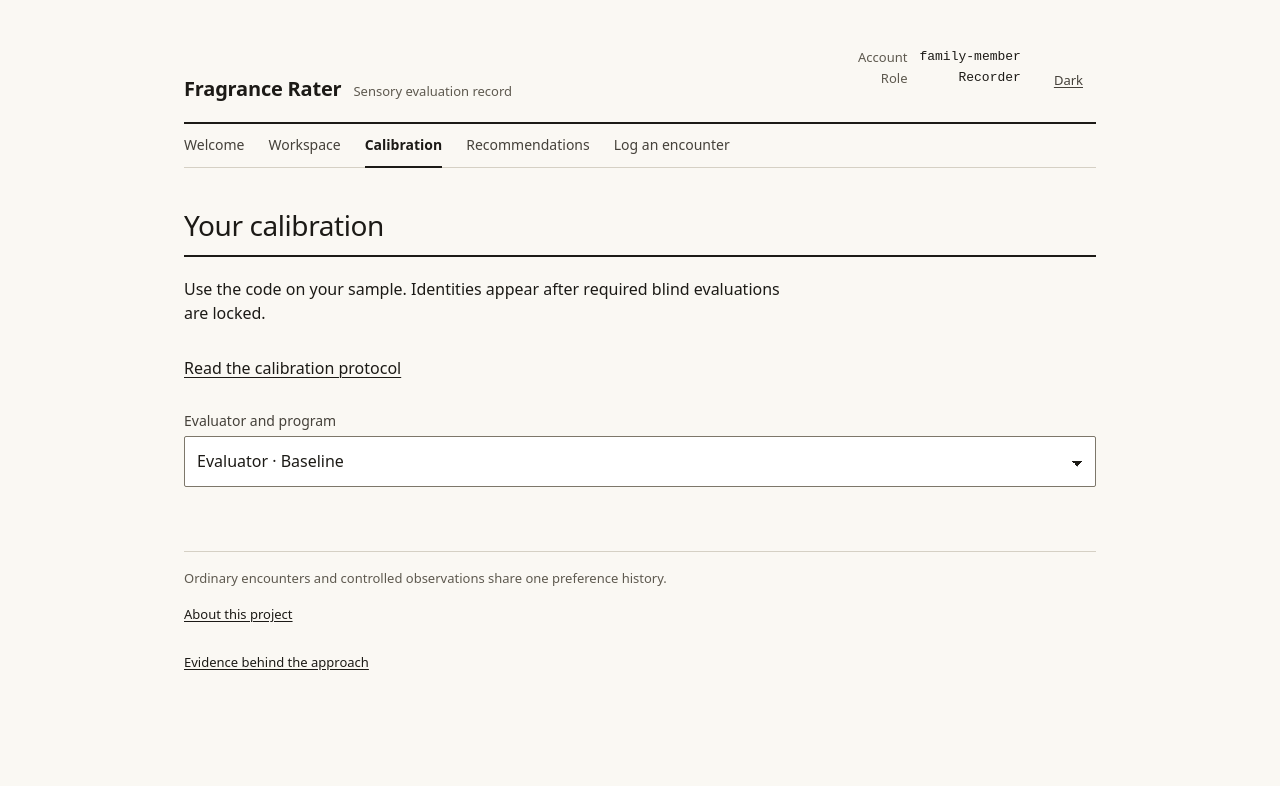
Test: Revealed sample › uses the singular label for a single perfumer
Select "Evaluator · Baseline" in the dropdown labelled "Evaluator and program" at (640, 461), box [184, 436, 1096, 487]
(page scrolled)
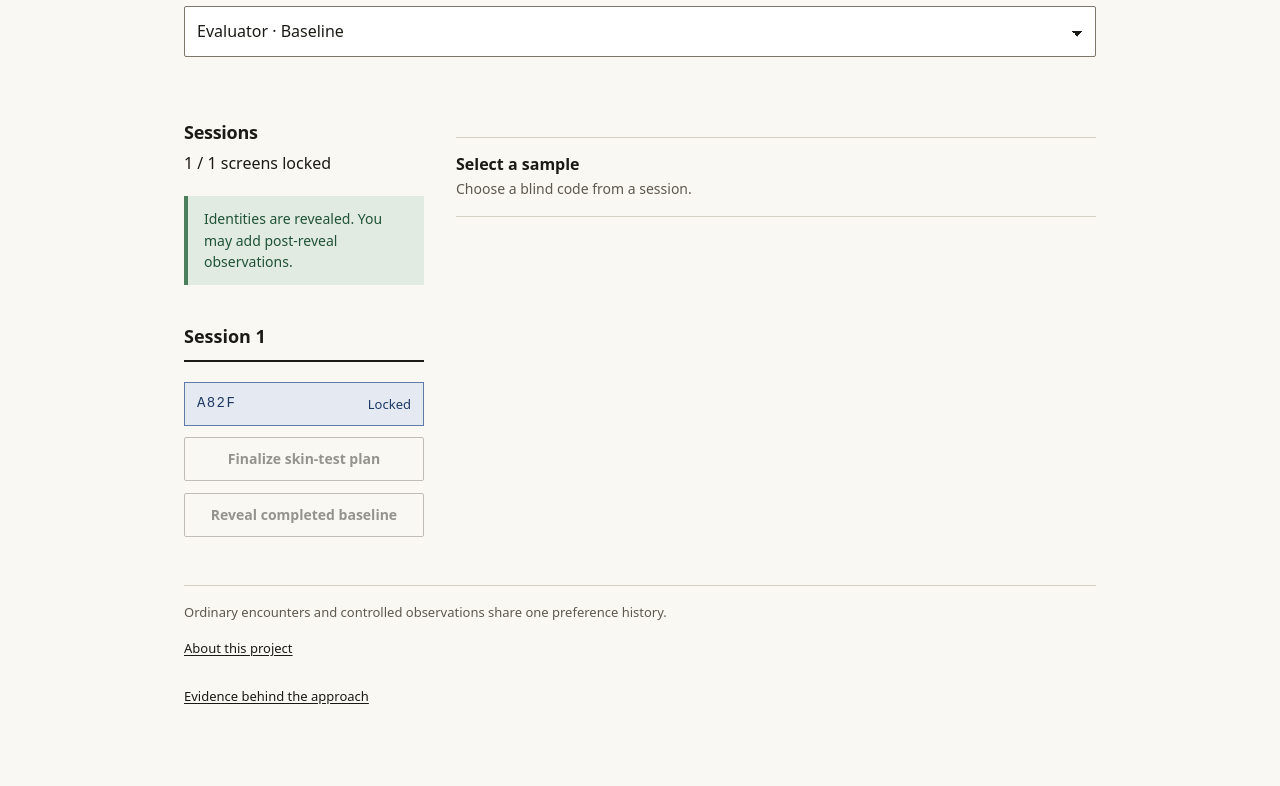
Click the button "A82F Locked" at (304, 404), box [184, 382, 424, 426]
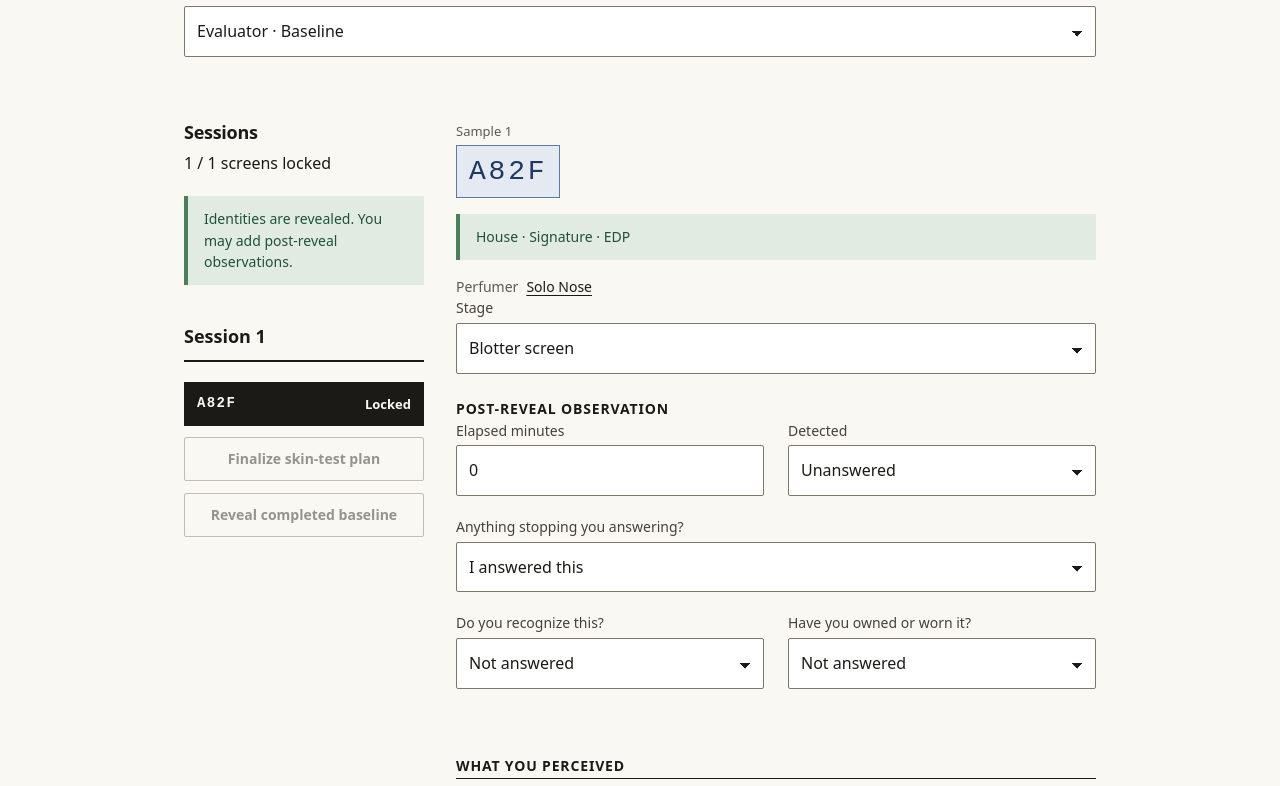
Expected: the text "Perfumer" is shown, [456, 276, 518, 297]
